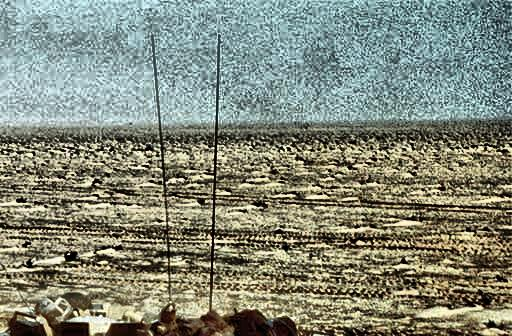tanks: (161, 325, 175, 336), (50, 335, 54, 336)
